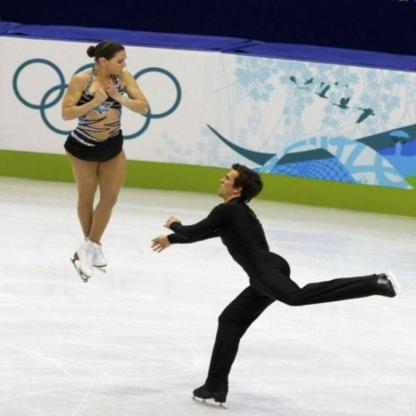face: (218, 170, 241, 197), (108, 50, 127, 76)
